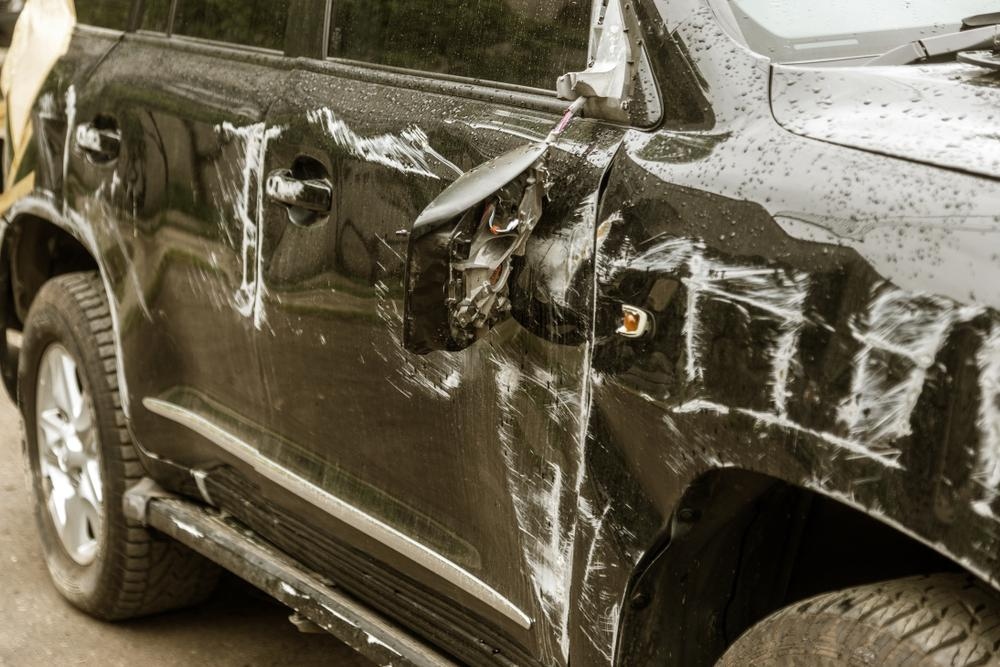dent: (585, 373, 675, 562)
scratch: (594, 210, 1000, 592), (303, 102, 550, 408), (492, 187, 606, 667), (164, 511, 410, 667), (37, 81, 149, 265), (195, 120, 286, 339), (578, 485, 633, 665)
